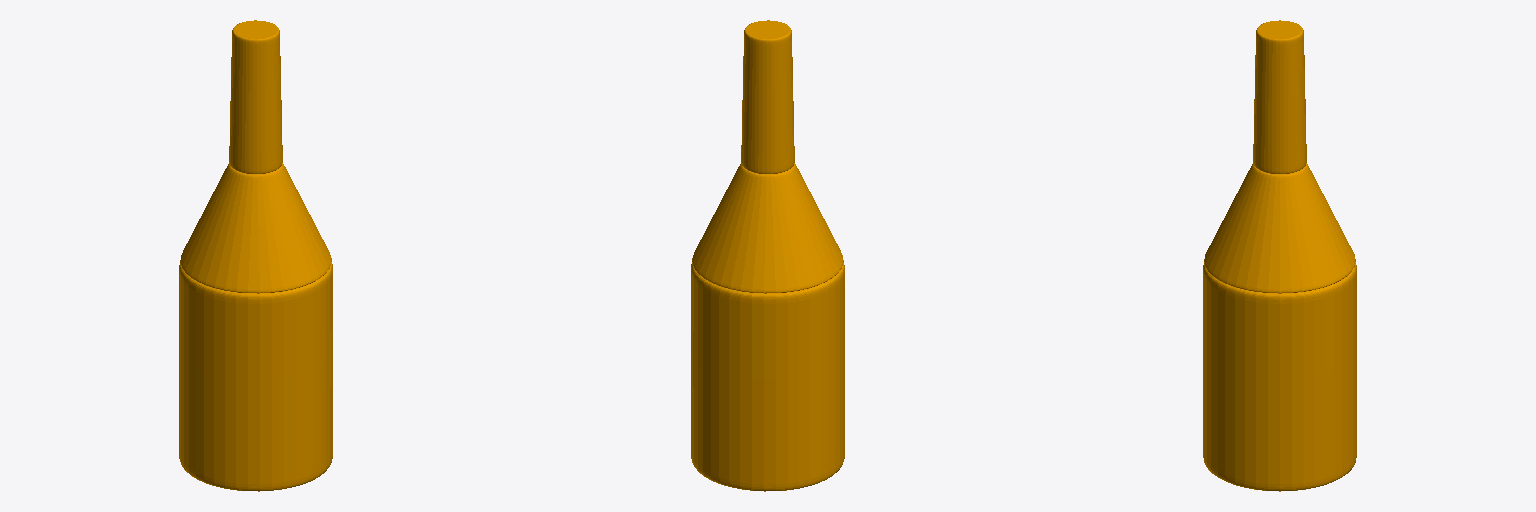
The robot description file, URDF, robot "object_562959432":

		<robot name="object_562959432">
			<link name="link_object_562959432">
				<visual>
					<geometry>
						<mesh filename="temp_object_562959432.obj" />
					</geometry>
				</visual>

				<collision>
					<geometry>
						<mesh filename="temp_object_562959432.obj" />
					</geometry>
				</collision>
				
				<inertial>
					<origin rpy="0 0 0" xyz="0 0 0"/>
					<mass value="0.3" />
					<inertia ixx="0.3" ixy="0" ixz="0" iyy="0.3" iyz="0" izz="0.3" />
				</inertial>
			</link>
		</robot>
		

--- What the picture shows (computed from the rendered views, not written in the file) ---
3 views of the same robot in one strip: view 1: azimuth 30°, elevation 25°; view 2: azimuth 150°, elevation 25°; view 3: azimuth 270°, elevation 25° (orthographic).
Model object_562959432 with 1 links and 0 joints (none), rooted at link_object_562959432, posed all joints at 0.
Links seen in each view (by area): view 1: link_object_562959432; view 2: link_object_562959432; view 3: link_object_562959432.
Link boxes in pixels (box(x1,y1,x2,y2)): link_object_562959432: box(179, 20, 332, 491); link_object_562959432: box(691, 20, 844, 491); link_object_562959432: box(1203, 20, 1356, 491).
Bounding box of the posed robot: 0.0931 × 0.0931 × 0.2869 m (x, y, z).
Meshes: 1 distinct files referenced, 1 mesh visuals loaded (1 OBJ).
